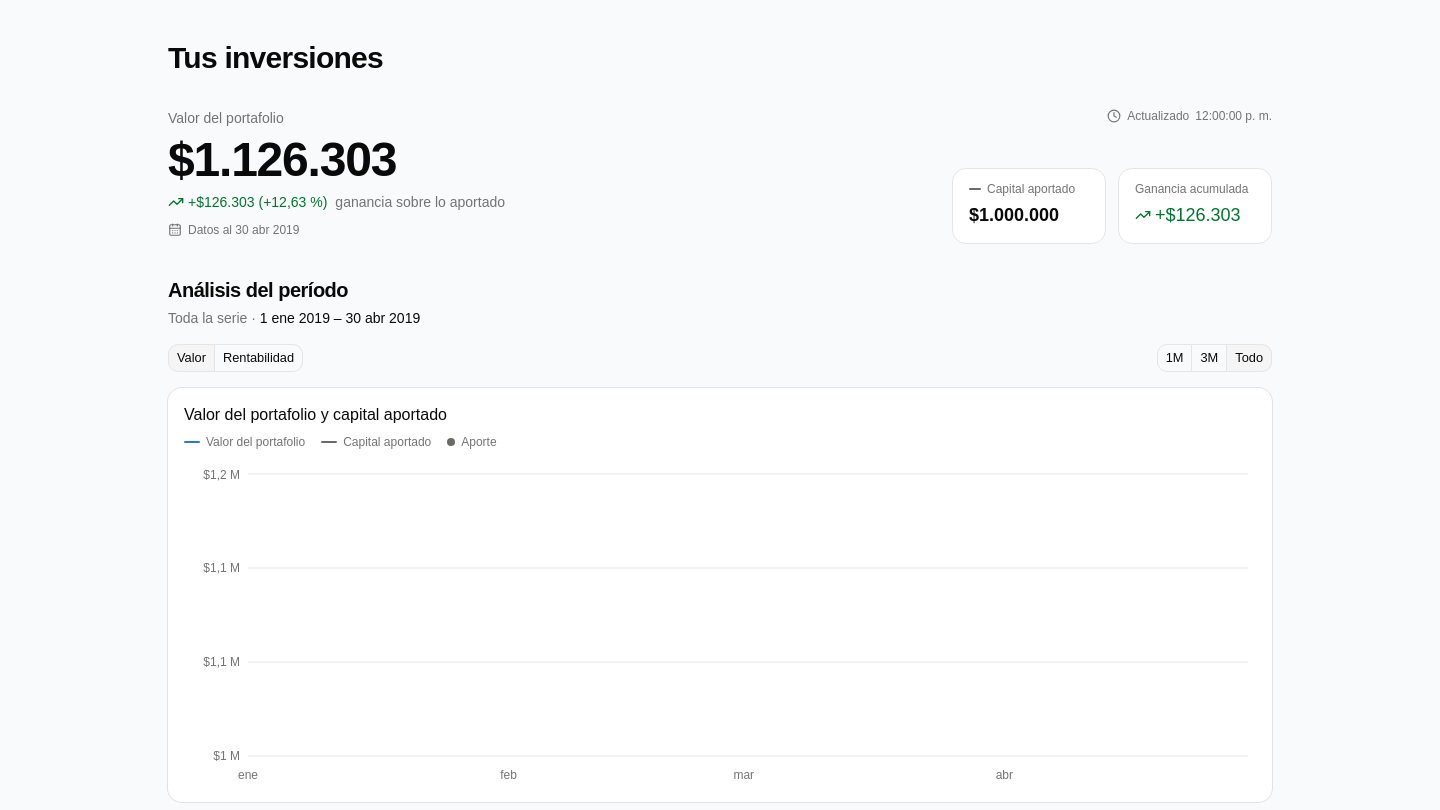
Scenario: Dashboard with data › recomputes period stats when the range changes
This screenshot has width=1440, height=810.
Expected: the heading "Análisis del período" is shown, top-left (168, 279), bottom-right (348, 301)
Expected: the text "1 ene 2019 – 30 abr 2019" is shown, top-left (260, 310), bottom-right (420, 326)
Click the radio button named "Último mes" at (1175, 358), box top-left (1157, 344), bottom-right (1192, 372)
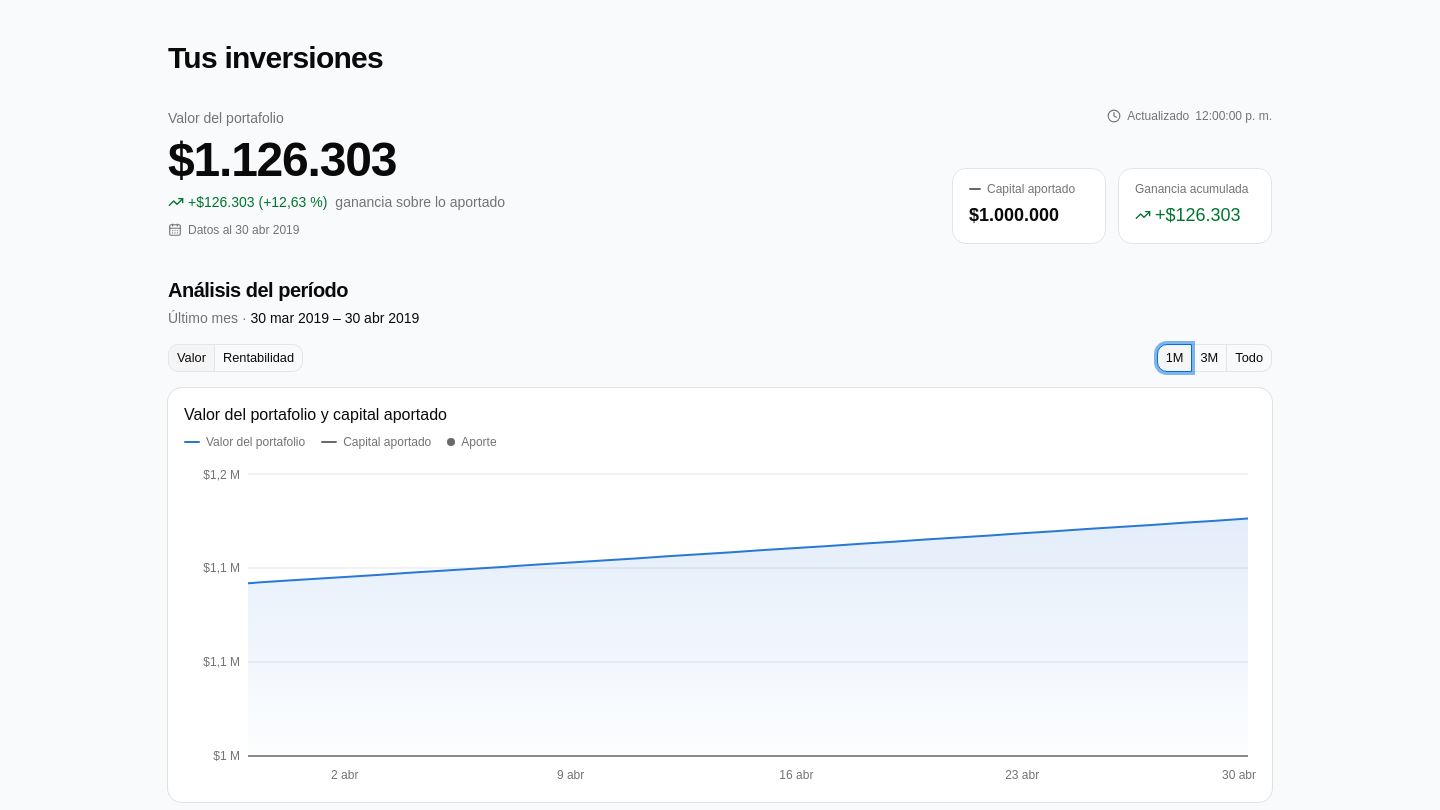
Expected: the text "30 mar 2019 – 30 abr 2019" is shown, top-left (250, 310), bottom-right (419, 326)
